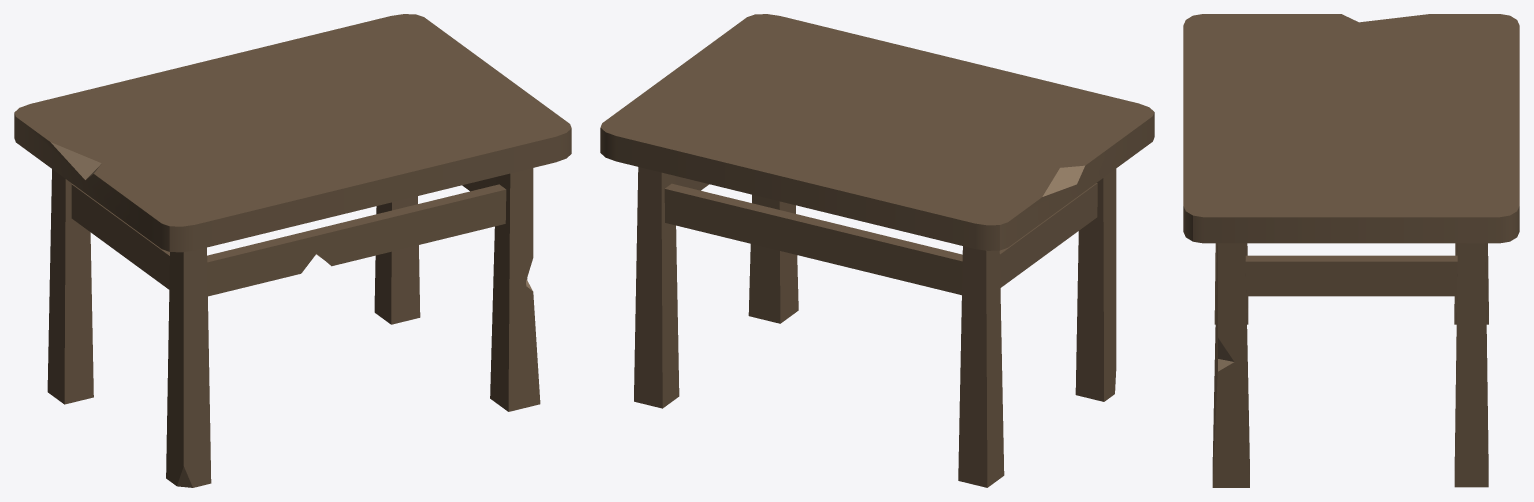
File: 17_LP_Table.fbx
3 views of the same model, side by side, from view 1: azimuth 30°, elevation 25°; view 2: azimuth 150°, elevation 25°; view 3: azimuth 270°, elevation 25° (orthographic). The views are drawn at different scales.
Visible parts, largest first — view 1: Table_A; view 2: Table_A; view 3: Table_A.
Boxes of the visible parts, x1,y1,x2,y2 form: Table_A: [14, 14, 571, 487]; Table_A: [600, 14, 1154, 487]; Table_A: [1183, 14, 1519, 487].
Bounding box in the file's own units: 120 × 78 × 84.
